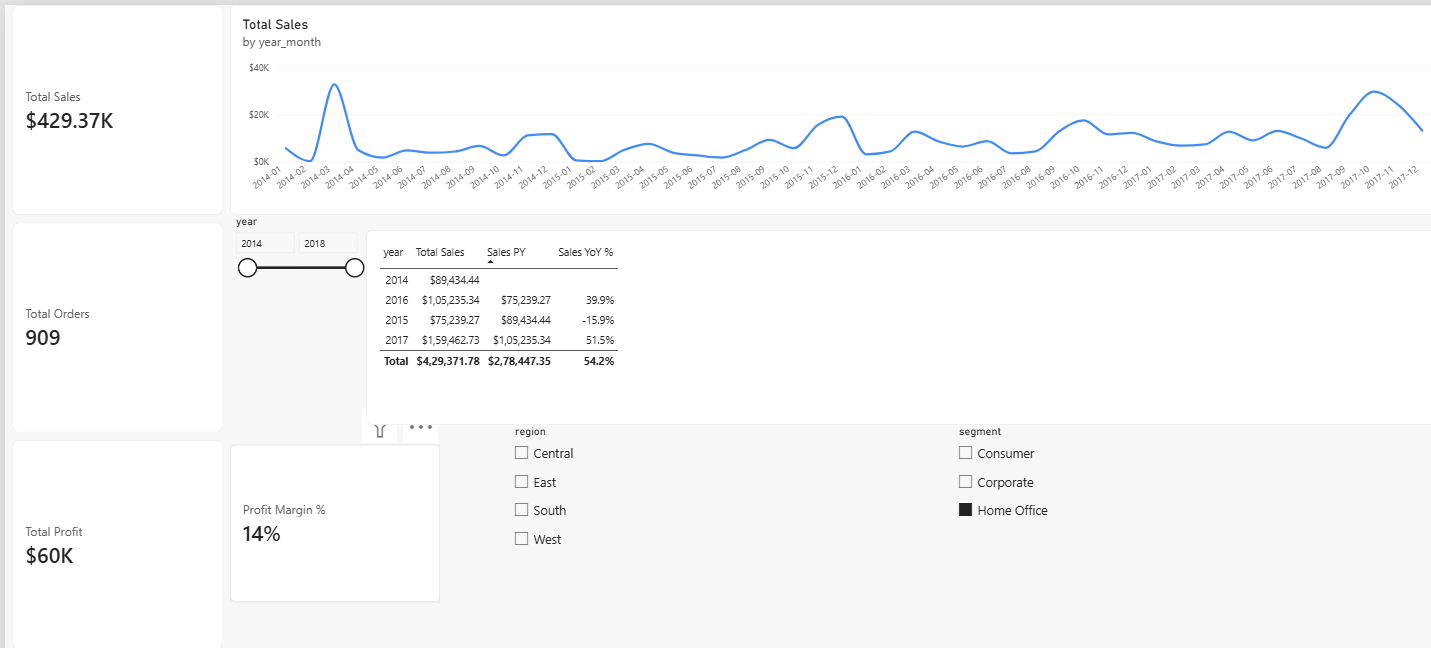

What the dashboard file says about the page in this screenshot:
{"tool":"powerbi","page":{"name":"Overview","canvas":[1920,1080],"ordinal":0},"visuals":[{"type":"cardVisual","fields":{"Data":["fact_sales.Total Sales"]},"box":[10,0,280,280],"z":0},{"type":"cardVisual","fields":{"Data":["fact_sales.Total Orders"]},"box":[10,290,280,280],"z":1000},{"type":"cardVisual","fields":{"Data":["fact_sales.Total Profit"]},"box":[10,580,280,280],"z":2000},{"type":"cardVisual","fields":{"Data":["fact_sales.Profit Margin %"]},"box":[300,586,280,210],"z":3000},{"type":"lineChart","fields":{"Category":["dim_date.year_month"],"Y":["fact_sales.Total Sales"]},"box":[300,0,1620,280],"z":4000},{"type":"slicer","fields":{"Values":["dim_date.year"]},"box":[300,280,182.5,280],"z":5000},{"type":"slicer","fields":{"Values":["dim_location.region"]},"box":[672,560,474,280],"z":6000},{"type":"slicer","fields":{"Values":["dim_customer.segment"]},"box":[1264,560,160,236],"z":7000},{"type":"tableEx","fields":{"Values":["dim_date.year","fact_sales.Total Sales","fact_sales.Sales PY","fact_sales.Sales YoY %"]},"box":[482.5,300,1437.5,260],"z":8000}]}

Visuals, with their boxes on the page's 1920x1080 design canvas (x1, y1, x2, y2). These are canvas units, not pixel positions in the 1431x648 screenshot, which may show the page scaled, cropped or inside an application window:
cardVisual - fact_sales.Total Sales: (10,0,290,280)
cardVisual - fact_sales.Total Orders: (10,290,290,570)
cardVisual - fact_sales.Total Profit: (10,580,290,860)
cardVisual - fact_sales.Profit Margin %: (300,586,580,796)
lineChart - dim_date.year_month x fact_sales.Total Sales: (300,0,1920,280)
slicer - dim_date.year: (300,280,482,560)
slicer - dim_location.region: (672,560,1146,840)
slicer - dim_customer.segment: (1264,560,1424,796)
tableEx - dim_date.year x fact_sales.Total Sales: (482,300,1920,560)
